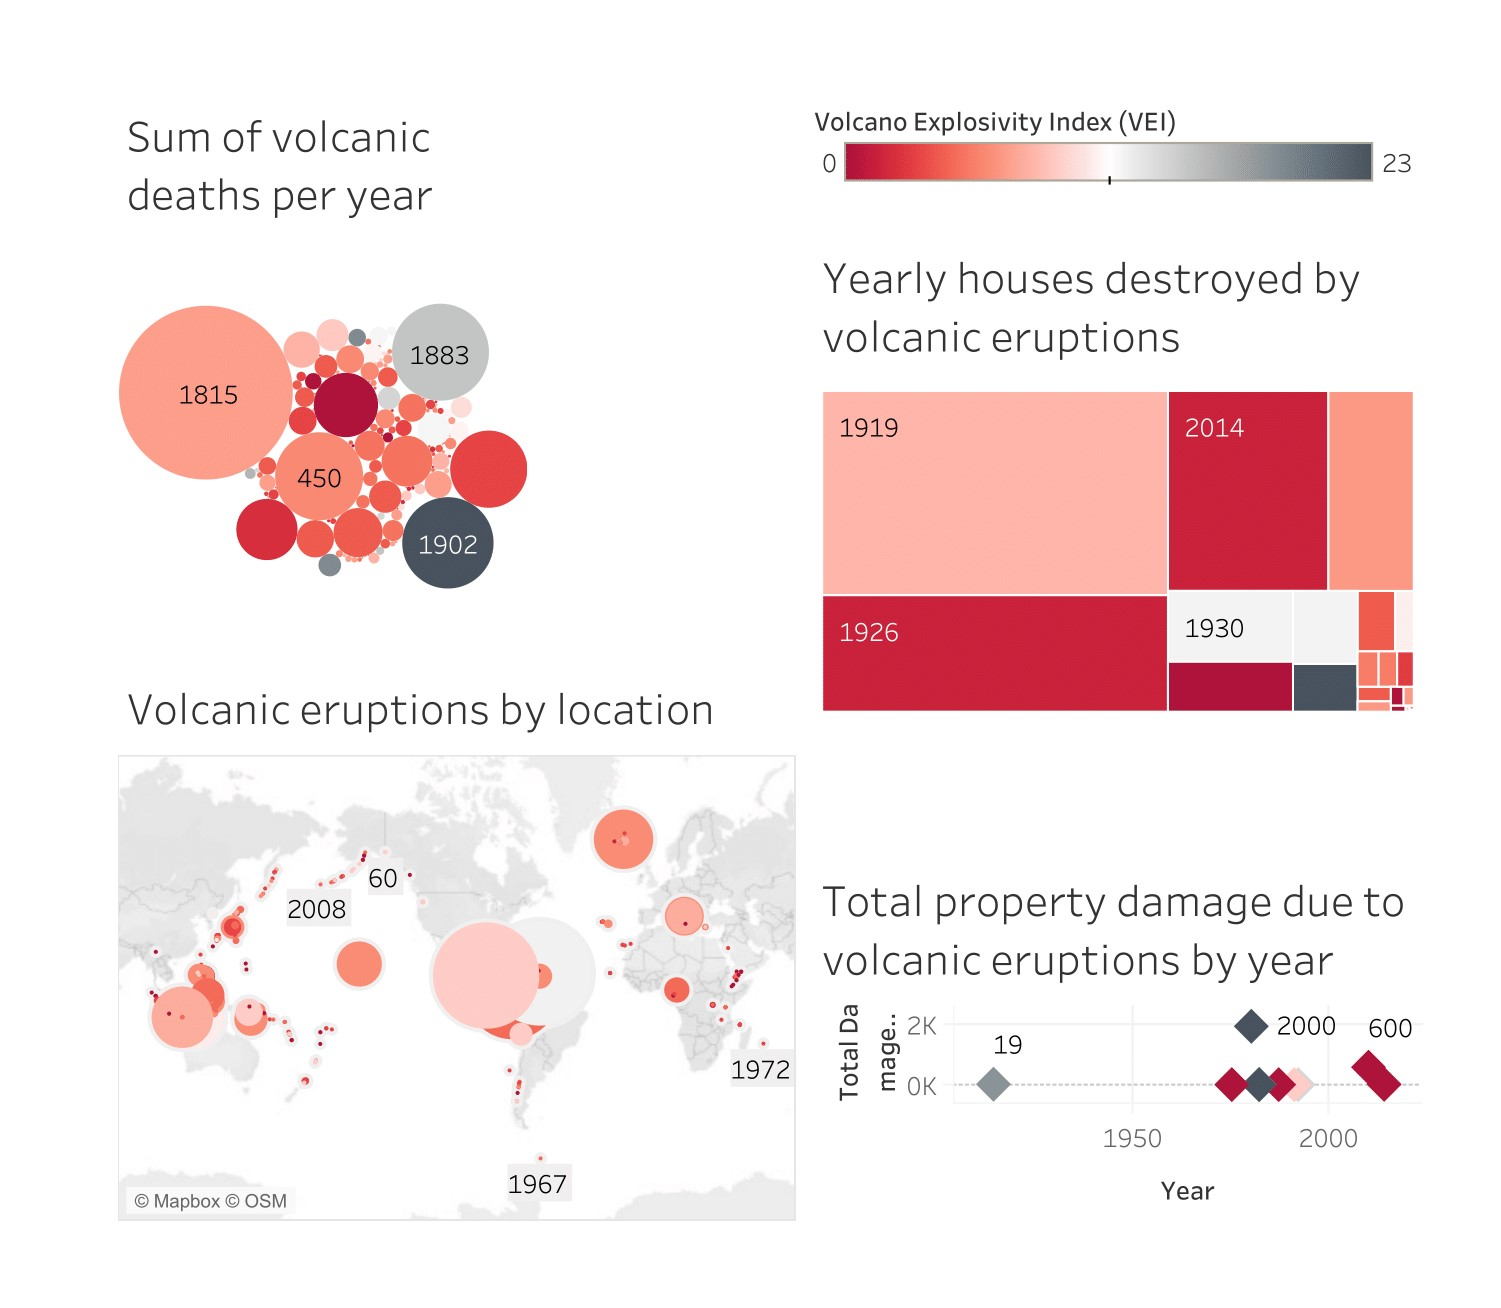

The dashboard page shown, as its layout file describes it:
{"tool":"tableau","page":{"name":"Dashboard 1","canvas":[650,860],"ordinal":0},"visuals":[{"type":"worksheet","box":[0,0,650,860]},{"type":"worksheet","param":"vert","box":[8,8,634,844]},{"type":"worksheet","param":"horz","box":[8,8,634,844]},{"type":"worksheet","box":[8,8,334,844]},{"type":"worksheet","title":"Sheet 1","mark":"Circle","box":[8,8,334,422]},{"type":"worksheet","param":"vert","box":[342,8,300,844]},{"type":"worksheet","title":"Sheet 1","mark":"Circle","param":"[federated.00ja9cs0v2o4j212hi4nf0knxcp8].[sum:Volcano Explosivity Index (VEI):qk","box":[342,8,300,73]},{"type":"worksheet","title":"Sheet 3","mark":"Automatic","box":[342,81,300,299]},{"type":"worksheet","title":"Sheet 4","mark":"Automatic","rows":["TOTAL_DAMAGE_MILLIONS_DOLLARS"],"cols":["Year"],"box":[342,380,300,472]},{"type":"worksheet","title":"Sheet 2","mark":"Automatic","rows":["Latitude"],"cols":["Longitude"],"box":[8,430,334,422]}]}

Visuals, with their boxes on the page's 650x860 design canvas (x1, y1, x2, y2). These are canvas units, not pixel positions in the 1501x1308 screenshot, which may show the page scaled, cropped or inside an application window:
worksheet: {"left": 0, "top": 0, "right": 650, "bottom": 860}
worksheet: {"left": 8, "top": 8, "right": 642, "bottom": 852}
worksheet: {"left": 8, "top": 8, "right": 642, "bottom": 852}
worksheet: {"left": 8, "top": 8, "right": 342, "bottom": 852}
"Sheet 1" worksheet (Circle marks): {"left": 8, "top": 8, "right": 342, "bottom": 430}
worksheet: {"left": 342, "top": 8, "right": 642, "bottom": 852}
"Sheet 1" worksheet (Circle marks): {"left": 342, "top": 8, "right": 642, "bottom": 81}
"Sheet 3" worksheet: {"left": 342, "top": 81, "right": 642, "bottom": 380}
"Sheet 4" worksheet: {"left": 342, "top": 380, "right": 642, "bottom": 852}
"Sheet 2" worksheet: {"left": 8, "top": 430, "right": 342, "bottom": 852}
